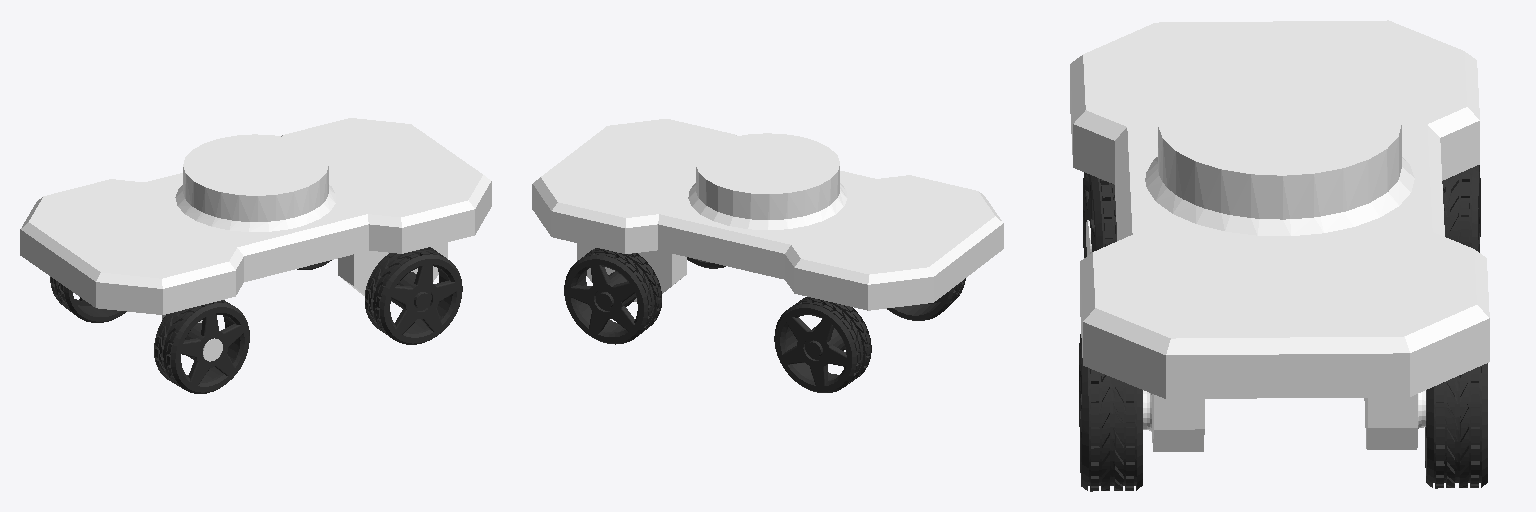
The robot description file, URDF, robot "car_assembly":
<?xml version="1.0" encoding="utf-8"?>
<!-- This URDF was automatically created by SolidWorks to URDF Exporter! Originally created by [author] ([email redacted]) 
     Commit Version: 1.6.0-4-g7f85cfe  Build Version: 1.6.7995.38578
     For more information, please see http://wiki.ros.org/sw_urdf_exporter -->
<robot
  name="car_assembly">
  <link
    name="base_link">
    <inertial>
      <origin
        xyz="0.098493 0.052416 0.13954"
        rpy="0 0 0" />
      <mass
        value="42.438" />
      <inertia
        ixx="0.79325"
        ixy="-0.043884"
        ixz="0.12083"
        iyy="2.9051"
        iyz="0.0025098"
        izz="3.4743" />
    </inertial>
    <visual>
      <origin
        xyz="0 0 0"
        rpy="0 0 0" />
      <geometry>
        <mesh
          filename="package://car_assembly/meshes/base_link.STL" />
      </geometry>
      <material
        name="">
        <color
          rgba="1 1 1 1" />
      </material>
    </visual>
    <collision>
      <origin
        xyz="0 0 0"
        rpy="0 0 0" />
      <geometry>
        <mesh
          filename="package://car_assembly/meshes/base_link.STL" />
      </geometry>
    </collision>
  </link>
  <link
    name="back_left_wheel_link">
    <inertial>
      <origin
        xyz="2.2071E-11 2.3628E-10 0.049445"
        rpy="0 0 0" />
      <mass
        value="0.92952" />
      <inertia
        ixx="0.0033456"
        ixy="-1.3544E-12"
        ixz="-4.9438E-13"
        iyy="0.0033456"
        iyz="-5.1325E-12"
        izz="0.0056993" />
    </inertial>
    <visual>
      <origin
        xyz="0 0 0"
        rpy="0 0 0" />
      <geometry>
        <mesh
          filename="package://car_assembly/meshes/back_left_wheel_link.STL" />
      </geometry>
      <material
        name="">
        <color
          rgba="0.25098 0.25098 0.25098 1" />
      </material>
    </visual>
    <collision>
      <origin
        xyz="0 0 0"
        rpy="0 0 0" />
      <geometry>
        <mesh
          filename="package://car_assembly/meshes/back_left_wheel_link.STL" />
      </geometry>
    </collision>
  </link>
  <joint
    name="back_left_wheel_joint"
    type="continuous">
    <origin
      xyz="0.32892 -0.11496 -0.017794"
      rpy="-1.5708 0.46908 -3.1208" />
    <parent
      link="base_link" />
    <child
      link="back_left_wheel_link" />
    <axis
      xyz="0 0 1" />
  </joint>
  <link
    name="back_right_wheel_link">
    <inertial>
      <origin
        xyz="2.2023E-11 2.372E-10 0.049029"
        rpy="0 0 0" />
      <mass
        value="0.92952" />
      <inertia
        ixx="0.0033456"
        ixy="-1.3559E-12"
        ixz="-4.9432E-13"
        iyy="0.0033456"
        iyz="-5.1562E-12"
        izz="0.0056993" />
    </inertial>
    <visual>
      <origin
        xyz="0 0 0"
        rpy="0 0 0" />
      <geometry>
        <mesh
          filename="package://car_assembly/meshes/back_right_wheel_link.STL" />
      </geometry>
      <material
        name="">
        <color
          rgba="0.25098 0.25098 0.25098 1" />
      </material>
    </visual>
    <collision>
      <origin
        xyz="0 0 0"
        rpy="0 0 0" />
      <geometry>
        <mesh
          filename="package://car_assembly/meshes/back_right_wheel_link.STL" />
      </geometry>
    </collision>
  </link>
  <joint
    name="back_right_wheel_joint"
    type="continuous">
    <origin
      xyz="0.32176 0.22964 -0.017794"
      rpy="1.5708 -0.29161 -3.1208" />
    <parent
      link="base_link" />
    <child
      link="back_right_wheel_link" />
    <axis
      xyz="0 0 1" />
  </joint>
  <link
    name="front_left_steer_link">
    <inertial>
      <origin
        xyz="1.6655E-05 0.03399 0.0088169"
        rpy="0 0 0" />
      <mass
        value="0.97929" />
      <inertia
        ixx="0.0037732"
        ixy="8.433E-07"
        ixz="-9.3754E-07"
        iyy="0.0011894"
        iyz="0.00044712"
        izz="0.0032474" />
    </inertial>
    <visual>
      <origin
        xyz="0 0 0"
        rpy="0 0 0" />
      <geometry>
        <mesh
          filename="package://car_assembly/meshes/front_left_steer_link.STL" />
      </geometry>
      <material
        name="">
        <color
          rgba="1 1 1 1" />
      </material>
    </visual>
    <collision>
      <origin
        xyz="0 0 0"
        rpy="0 0 0" />
      <geometry>
        <mesh
          filename="package://car_assembly/meshes/front_left_steer_link.STL" />
      </geometry>
    </collision>
  </link>
  <joint
    name="front_left_steer_joint"
    type="revolute">
    <origin
      xyz="-0.17971 -0.089917 0"
      rpy="1.5708 0 0.094044" />
    <parent
      link="base_link" />
    <child
      link="front_left_steer_link" />
    <axis
      xyz="0 1 0" />
    <limit
      lower="-1.57"
      upper="1.57"
      effort="100"
      velocity="3.14" />
  </joint>
  <link
    name="front_left_wheel_link">
    <inertial>
      <origin
        xyz="2.207E-11 2.3632E-10 0.070398"
        rpy="0 0 0" />
      <mass
        value="0.92952" />
      <inertia
        ixx="0.0033456"
        ixy="-1.3541E-12"
        ixz="-4.9445E-13"
        iyy="0.0033456"
        iyz="-5.1331E-12"
        izz="0.0056993" />
    </inertial>
    <visual>
      <origin
        xyz="0 0 0"
        rpy="0 0 0" />
      <geometry>
        <mesh
          filename="package://car_assembly/meshes/front_left_wheel_link.STL" />
      </geometry>
      <material
        name="">
        <color
          rgba="0.25098 0.25098 0.25098 1" />
      </material>
    </visual>
    <collision>
      <origin
        xyz="0 0 0"
        rpy="0 0 0" />
      <geometry>
        <mesh
          filename="package://car_assembly/meshes/front_left_wheel_link.STL" />
      </geometry>
    </collision>
  </link>
  <joint
    name="front_left_wheel_joint"
    type="continuous">
    <origin
      xyz="0.00012521 -0.017794 0.014652"
      rpy="0 0 -2.4908" />
    <parent
      link="front_left_steer_link" />
    <child
      link="front_left_wheel_link" />
    <axis
      xyz="0 0 1" />
  </joint>
  <link
    name="front_right_steer_joint">
    <inertial>
      <origin
        xyz="0.0014273 0.03399 0.0087006"
        rpy="0 0 0" />
      <mass
        value="0.97929" />
      <inertia
        ixx="0.0037595"
        ixy="7.2381E-05"
        ixz="-8.3954E-05"
        iyy="0.0011894"
        iyz="0.00044123"
        izz="0.0032611" />
    </inertial>
    <visual>
      <origin
        xyz="0 0 0"
        rpy="0 0 0" />
      <geometry>
        <mesh
          filename="package://car_assembly/meshes/front_right_steer_joint.STL" />
      </geometry>
      <material
        name="">
        <color
          rgba="1 1 1 1" />
      </material>
    </visual>
    <collision>
      <origin
        xyz="0 0 0"
        rpy="0 0 0" />
      <geometry>
        <mesh
          filename="package://car_assembly/meshes/front_right_steer_joint.STL" />
      </geometry>
    </collision>
  </link>
  <joint
    name="front_right_steer_joint"
    type="revolute">
    <origin
      xyz="-0.18538 0.18307 0"
      rpy="1.5708 0 3.1235" />
    <parent
      link="base_link" />
    <child
      link="front_right_steer_joint" />
    <axis
      xyz="0 1 0" />
    <limit
      lower="-1.57"
      upper="1.57"
      effort="100"
      velocity="3.14" />
  </joint>
  <link
    name="front_right_wheel_link">
    <inertial>
      <origin
        xyz="0.012363 0.0056858 0.042634"
        rpy="0 0 0" />
      <mass
        value="0.92952" />
      <inertia
        ixx="0.0033954"
        ixy="2.2878E-05"
        ixz="0.00033777"
        iyy="0.0033561"
        iyz="0.00015534"
        izz="0.005639" />
    </inertial>
    <visual>
      <origin
        xyz="0 0 0"
        rpy="0 0 0" />
      <geometry>
        <mesh
          filename="package://car_assembly/meshes/front_right_wheel_link.STL" />
      </geometry>
      <material
        name="">
        <color
          rgba="0.25098 0.25098 0.25098 1" />
      </material>
    </visual>
    <collision>
      <origin
        xyz="0 0 0"
        rpy="0 0 0" />
      <geometry>
        <mesh
          filename="package://car_assembly/meshes/front_right_wheel_link.STL" />
      </geometry>
    </collision>
  </link>
  <joint
    name="front_right_wheel_joint"
    type="continuous">
    <origin
      xyz="0.00012521 -0.017794 0.0413"
      rpy="0 0 -0.43105" />
    <parent
      link="front_right_steer_joint" />
    <child
      link="front_right_wheel_link" />
    <axis
      xyz="0 0 1" />
  </joint>
</robot>

--- Render facts (derived) ---
Views: 3 orthographic renders of the robot side by side, from view 1: azimuth 30°, elevation 25°; view 2: azimuth 150°, elevation 25°; view 3: azimuth 270°, elevation 25°.
Model car_assembly with 7 links and 6 joints (2 revolute, 4 continuous), rooted at base_link, posed all joints at 0.
Links seen in each view (by area): view 1: base_link, back_left_wheel_link, front_left_wheel_link, front_right_wheel_link; view 2: base_link, back_right_wheel_link, front_right_wheel_link, front_left_wheel_link; view 3: base_link, back_left_wheel_link, back_right_wheel_link, front_right_wheel_link, front_left_wheel_link.
Link boxes in pixels (left/top/right/bottom): base_link: left=20, top=118, right=491, bottom=314; back_left_wheel_link: left=365, top=247, right=462, bottom=344; front_left_wheel_link: left=154, top=300, right=249, bottom=393; front_right_wheel_link: left=50, top=277, right=126, bottom=322; base_link: left=532, top=119, right=1003, bottom=310; back_right_wheel_link: left=564, top=248, right=661, bottom=344; front_right_wheel_link: left=774, top=297, right=871, bottom=392; front_left_wheel_link: left=887, top=278, right=965, bottom=320; base_link: left=1070, top=20, right=1489, bottom=451; back_left_wheel_link: left=1079, top=334, right=1142, bottom=491; back_right_wheel_link: left=1425, top=363, right=1487, bottom=488; front_right_wheel_link: left=1442, top=165, right=1480, bottom=252; front_left_wheel_link: left=1083, top=172, right=1116, bottom=257.
Bounding box of the posed robot: 0.9713 × 0.5237 × 0.3746 m (x, y, z).
6 mesh visuals loaded from 7 distinct referenced files (6 binary STL); not drawn: 1 (reference not matched to a file when rendering).